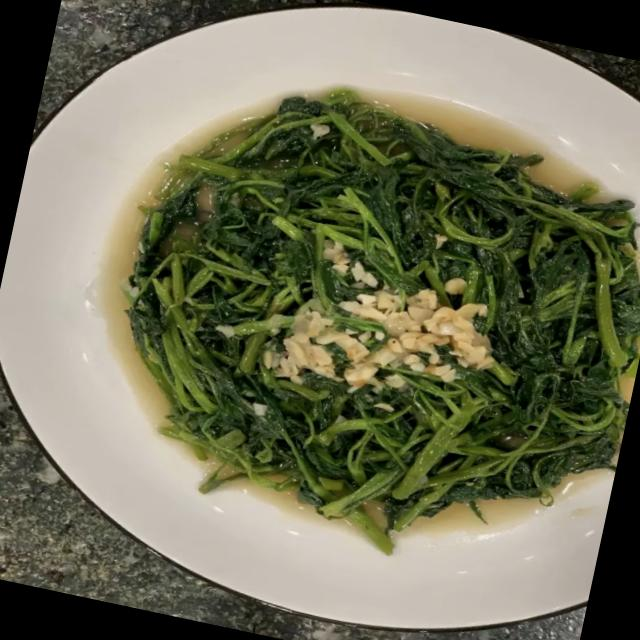rau muong: (114, 92, 640, 555)
